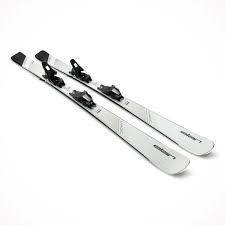skis: (12, 49, 215, 177)
